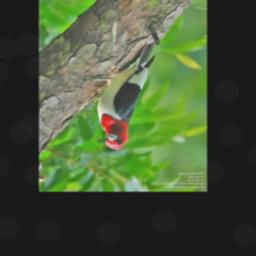Woodpecker: (86, 43, 159, 150)
